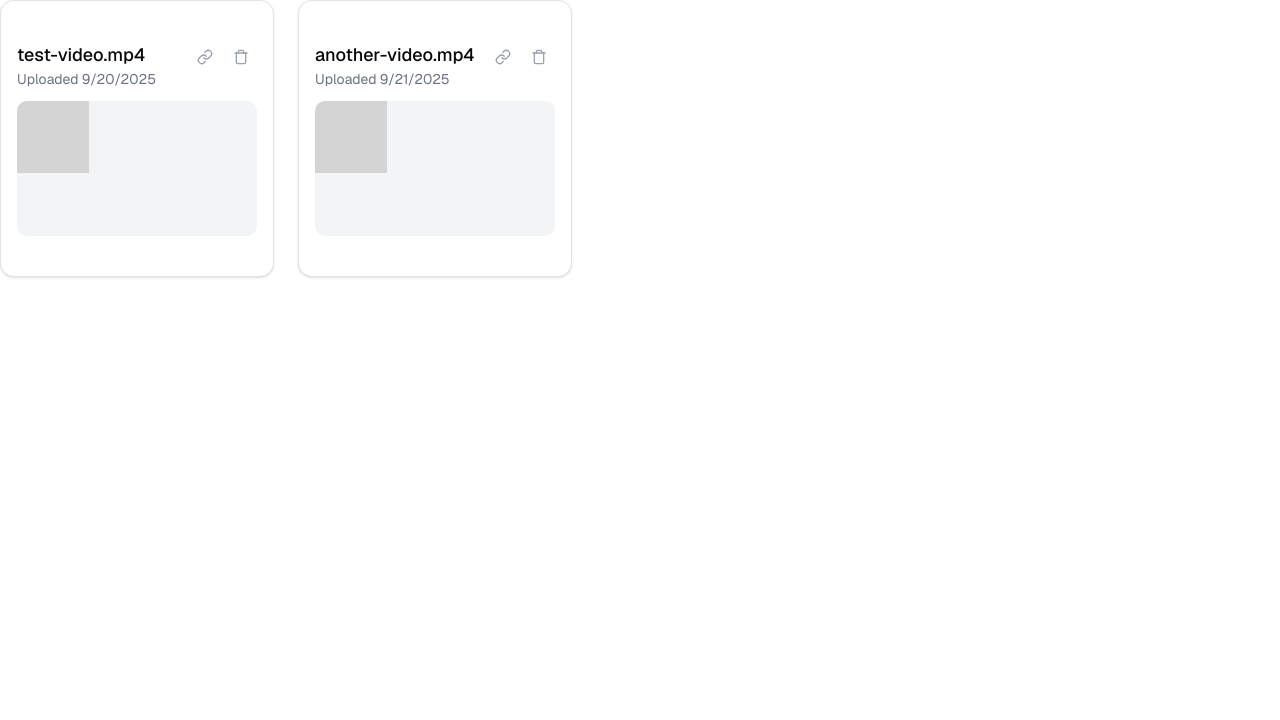
Test case: VideoGrid › Delete functionality › opens confirmation dialog when delete button is clicked
The image size is (1280, 720).
What coordinates should you click on to do the following:
click the button titled "Delete \"test-video.mp4\""
I would click on:
 (241, 57)
Its box is [225,41,257,73].
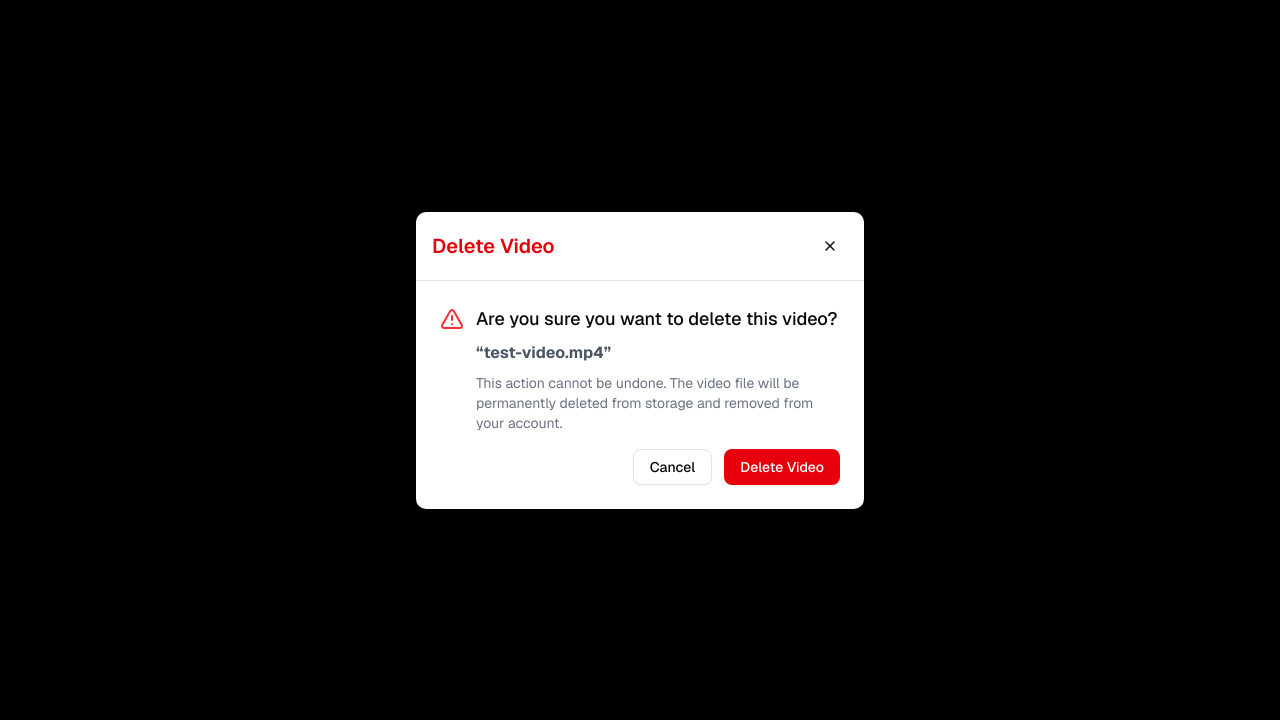
Check: the heading "Delete Video" is shown, box [432,232,555,260]
Check: the heading "Are you sure you want to delete this video?" is shown, box [476,304,840,332]
Check: the element "Delete Video" is shown, box [416,212,864,508]
